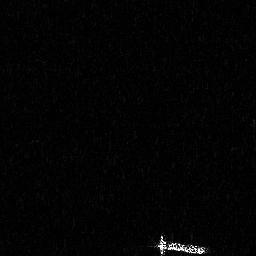ship: (146, 231, 215, 256)
